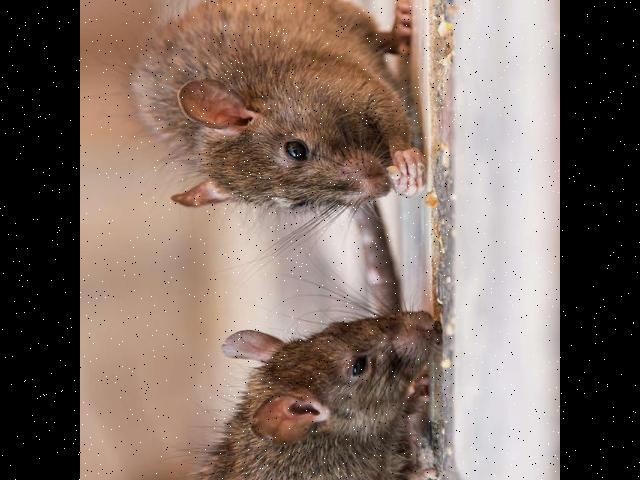Tikus: (129, 0, 426, 215), (174, 308, 437, 480)
